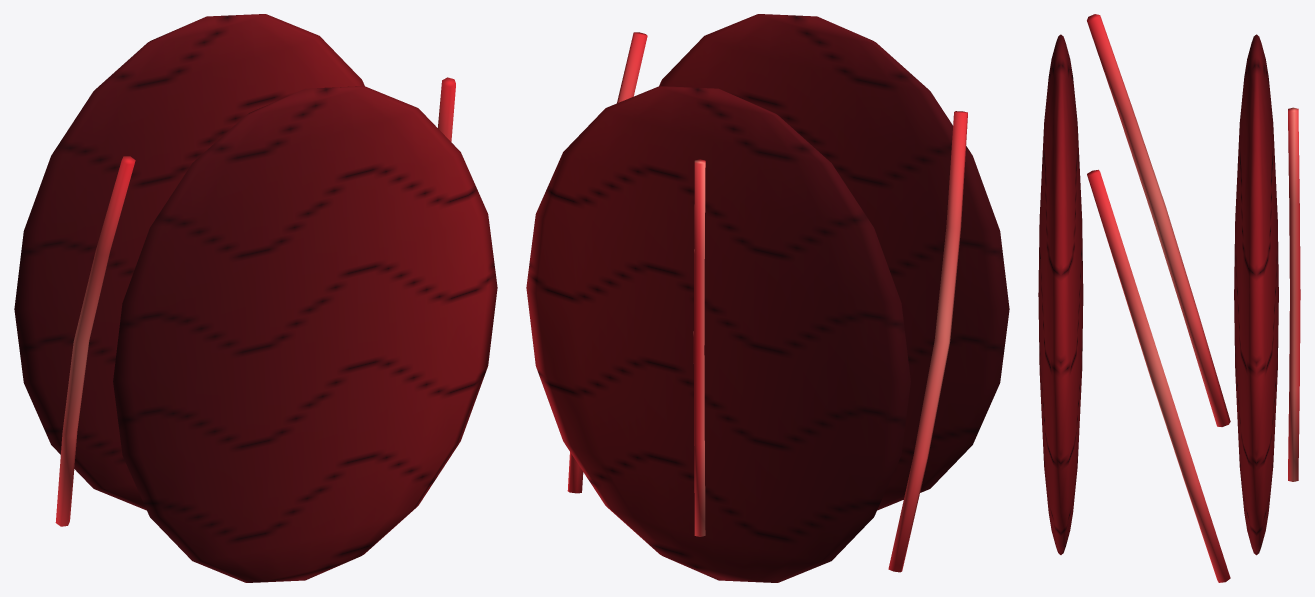
Rendered from parasite_hide_smooth.obj.
3 views of the same model, side by side, from view 1: azimuth 30°, elevation 25°; view 2: azimuth 150°, elevation 25°; view 3: azimuth 270°, elevation 25° (orthographic).
Visible parts, largest first — view 1: hide_smooth; view 2: hide_smooth; view 3: hide_smooth.
Part boxes in pixels (bbox=[...]): hide_smooth: bbox=[14, 14, 497, 582]; hide_smooth: bbox=[526, 14, 1009, 582]; hide_smooth: bbox=[1038, 14, 1300, 582].
Size of the model in its own units: 0.675 by 0.825 by 0.4019.
